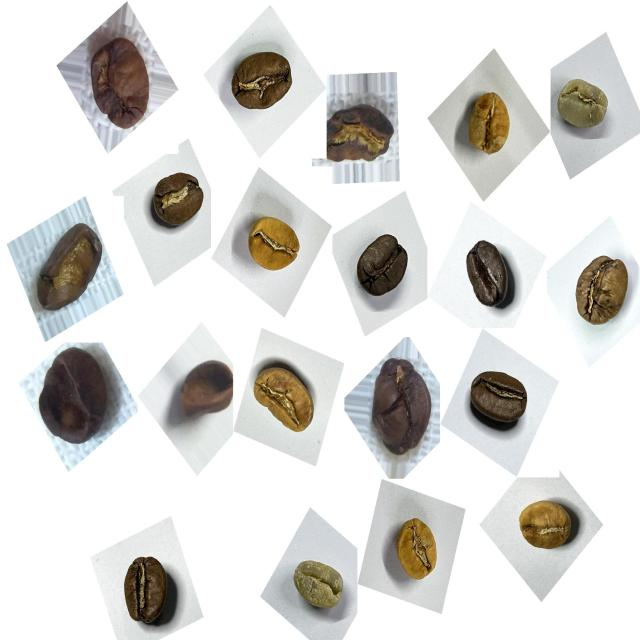bad: (31, 337, 122, 453), (80, 24, 164, 140), (361, 351, 443, 466), (28, 212, 110, 320), (318, 92, 398, 178), (170, 348, 240, 431)
dark: (464, 360, 540, 444), (457, 232, 526, 322), (346, 223, 416, 309)
green: (549, 68, 621, 147), (282, 550, 354, 626)
light: (245, 348, 325, 445), (383, 509, 450, 596), (241, 203, 312, 284), (457, 84, 522, 170)
medium: (564, 244, 638, 338), (223, 40, 303, 125), (110, 548, 183, 638), (508, 488, 584, 564), (142, 162, 212, 242)
